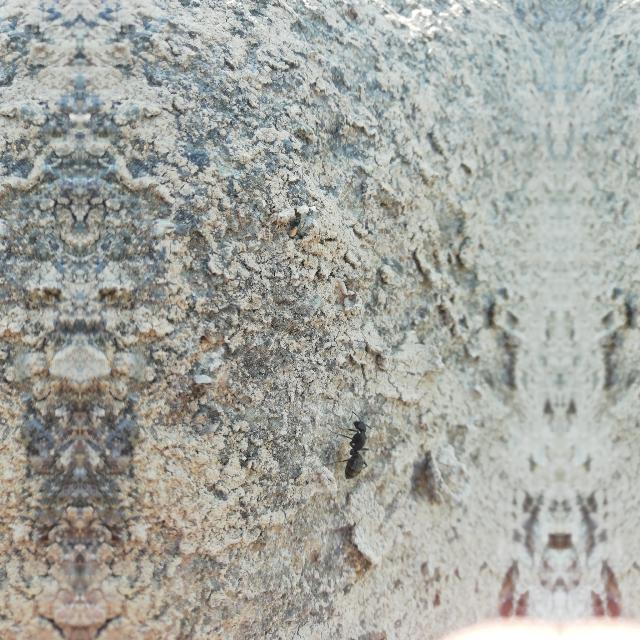Camponotus: (329, 408, 385, 488)
